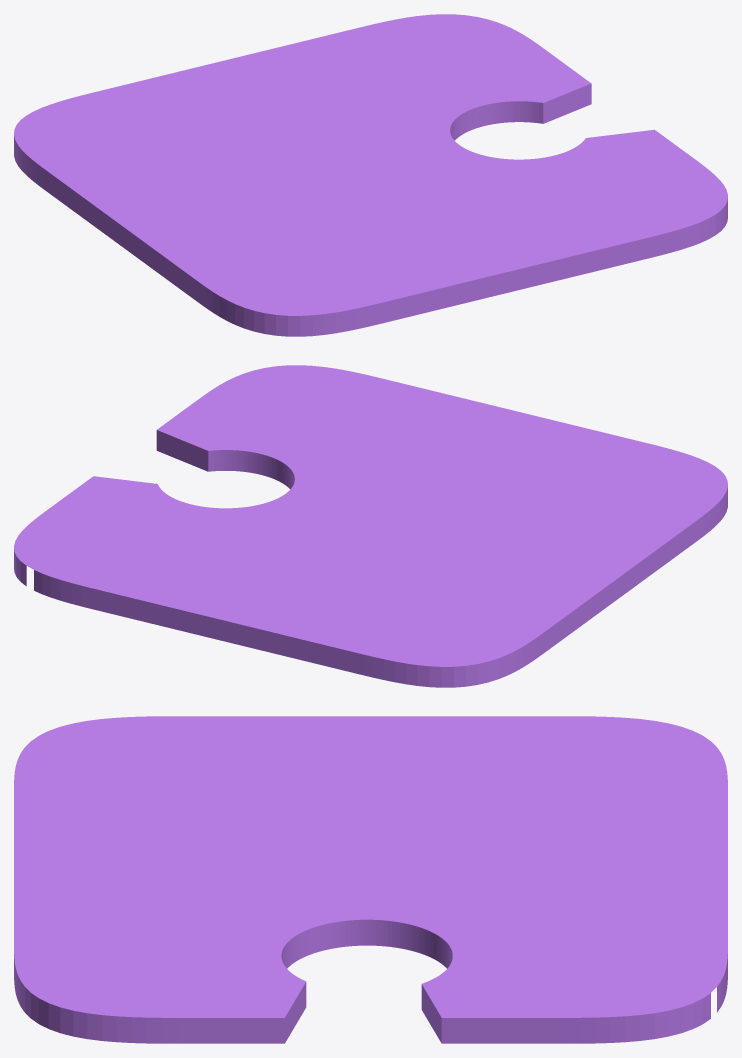
File: puzzle.glb
The picture shows the model from 3 angles, top to bottom: view 1: azimuth 30°, elevation 25°; view 2: azimuth 150°, elevation 25°; view 3: azimuth 270°, elevation 25°; orthographic projection. The views are drawn at different scales.
Visible parts, largest first — view 1: Set00_L_Puzzle; view 2: Set00_L_Puzzle; view 3: Set00_L_Puzzle.
Part boxes in pixels (<box>): Set00_L_Puzzle: <box>14,14,727,336</box>; Set00_L_Puzzle: <box>14,365,727,687</box>; Set00_L_Puzzle: <box>14,716,727,1043</box>.
Bounding box in the file's own units: 1.51 × 0.0604 × 1.51.
